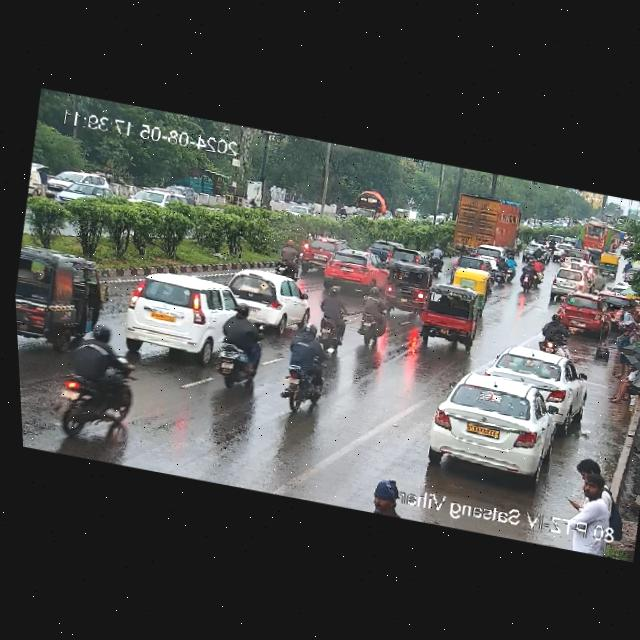car: (424, 370, 569, 483), (115, 266, 253, 372), (13, 243, 115, 358), (483, 340, 592, 419), (218, 265, 312, 330), (413, 283, 485, 353), (37, 162, 114, 208), (319, 246, 382, 294), (378, 259, 431, 314), (554, 289, 611, 334), (125, 180, 190, 217), (559, 257, 609, 295), (449, 265, 494, 297), (549, 265, 591, 299), (296, 236, 334, 271), (594, 252, 625, 276), (471, 243, 505, 263)
motorcycle: (42, 329, 155, 465), (270, 313, 343, 418), (208, 296, 276, 392), (306, 277, 353, 351), (352, 278, 393, 352), (531, 309, 576, 358), (267, 238, 308, 278), (518, 258, 544, 290), (488, 255, 510, 285), (425, 244, 448, 270), (500, 255, 518, 284), (528, 243, 549, 263), (528, 258, 545, 274)
person: (563, 462, 623, 526), (604, 341, 640, 412), (602, 315, 640, 382)
truck: (445, 189, 526, 263)
